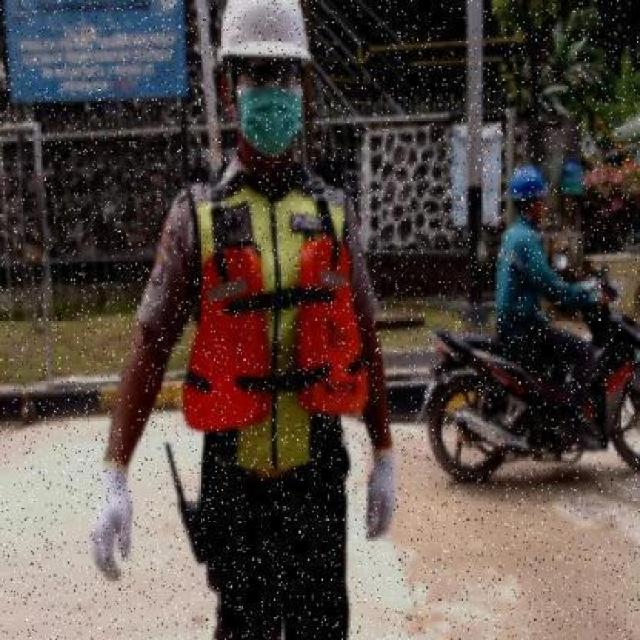Gloves: (80, 452, 140, 582), (362, 434, 400, 544)
Helmet: (214, 0, 320, 65)
Mask: (228, 86, 304, 159)
Protective Glasses: (225, 52, 308, 90)
Vest: (181, 238, 367, 430)
